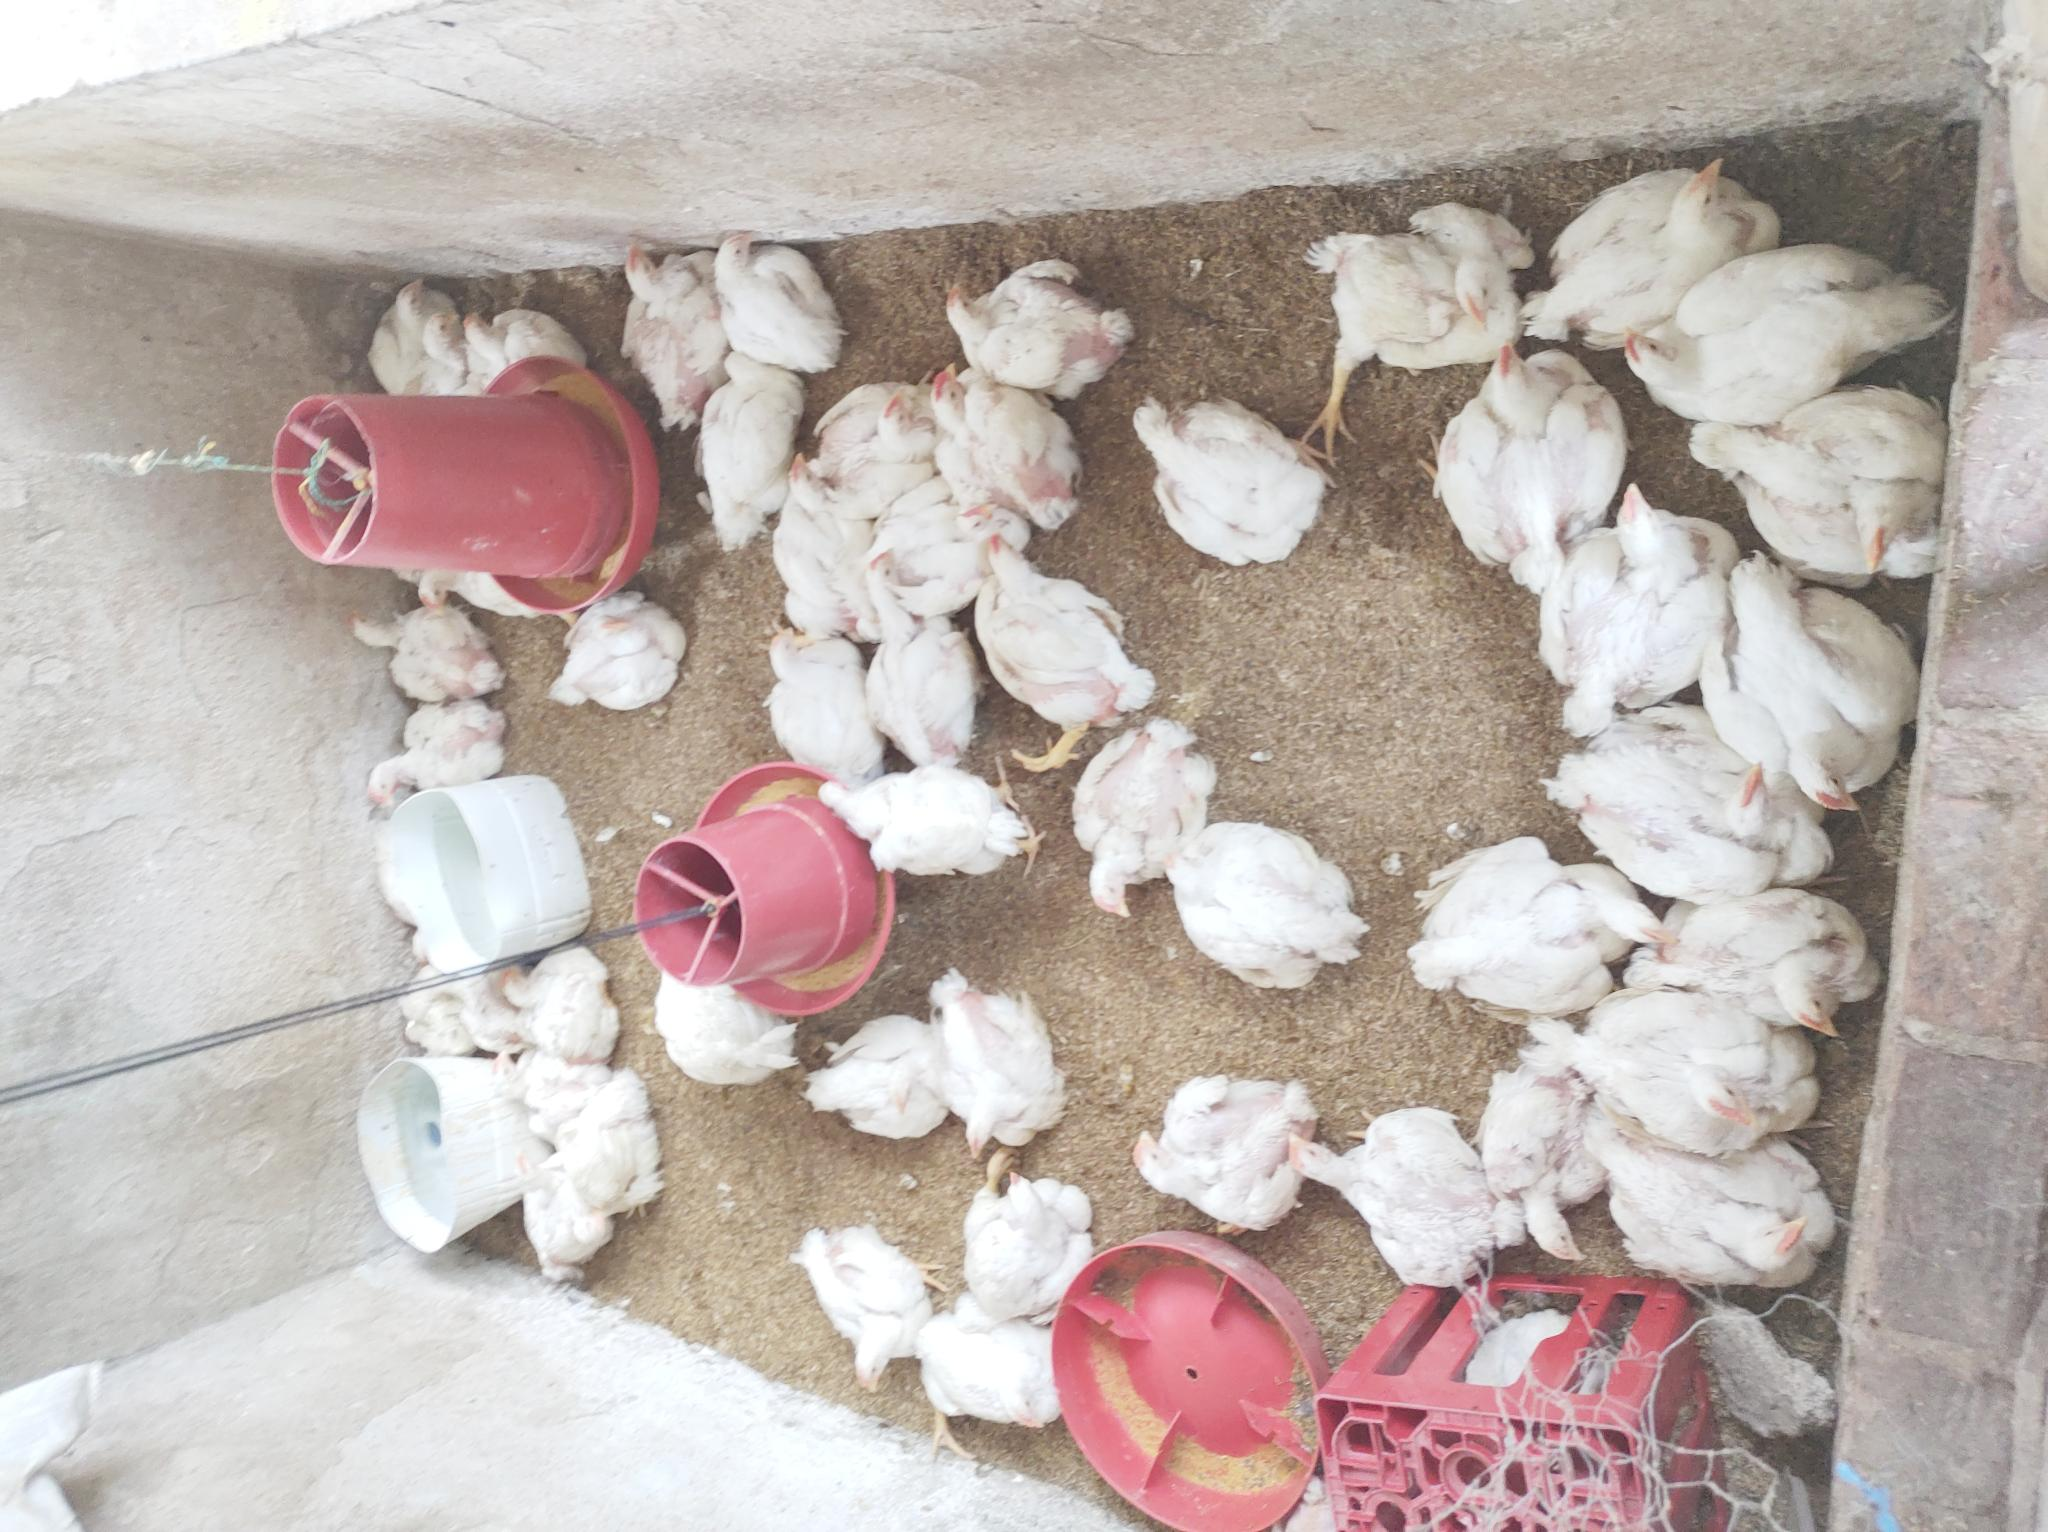Pollos: (1535, 698, 1836, 903), (1515, 467, 1746, 727), (1615, 241, 1956, 406), (1707, 562, 1918, 822), (1396, 827, 1655, 1020), (1535, 143, 1757, 365), (1435, 325, 1630, 570), (1622, 866, 1879, 1049), (1699, 391, 1939, 587), (1274, 1091, 1512, 1279), (1565, 995, 1836, 1157), (1607, 1131, 1852, 1299), (1125, 377, 1330, 570), (1155, 809, 1363, 996), (1330, 191, 1535, 375), (980, 529, 1154, 739), (1482, 1030, 1623, 1266), (922, 969, 1083, 1167), (1129, 1073, 1313, 1238), (1071, 719, 1208, 924), (780, 1220, 931, 1397), (816, 764, 1043, 880), (862, 542, 977, 769), (931, 359, 1080, 526), (948, 257, 1128, 389), (957, 1151, 1092, 1316), (870, 478, 1034, 610), (616, 240, 730, 426), (763, 623, 888, 789), (650, 969, 806, 1093), (914, 1305, 1063, 1434), (803, 1012, 956, 1138), (718, 229, 849, 373), (812, 381, 944, 521), (775, 447, 874, 634), (547, 591, 693, 711), (697, 352, 792, 536), (339, 603, 507, 703), (367, 700, 508, 816), (500, 946, 623, 1059), (571, 1077, 661, 1228), (516, 1149, 618, 1275), (487, 1048, 607, 1139), (401, 568, 545, 621)
